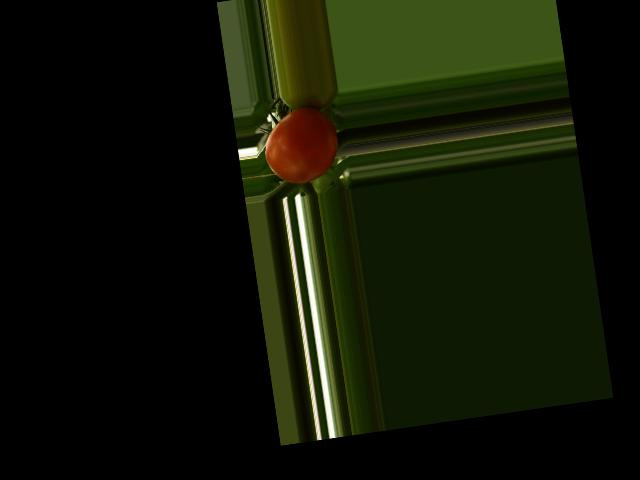tomato: (259, 103, 343, 187)
